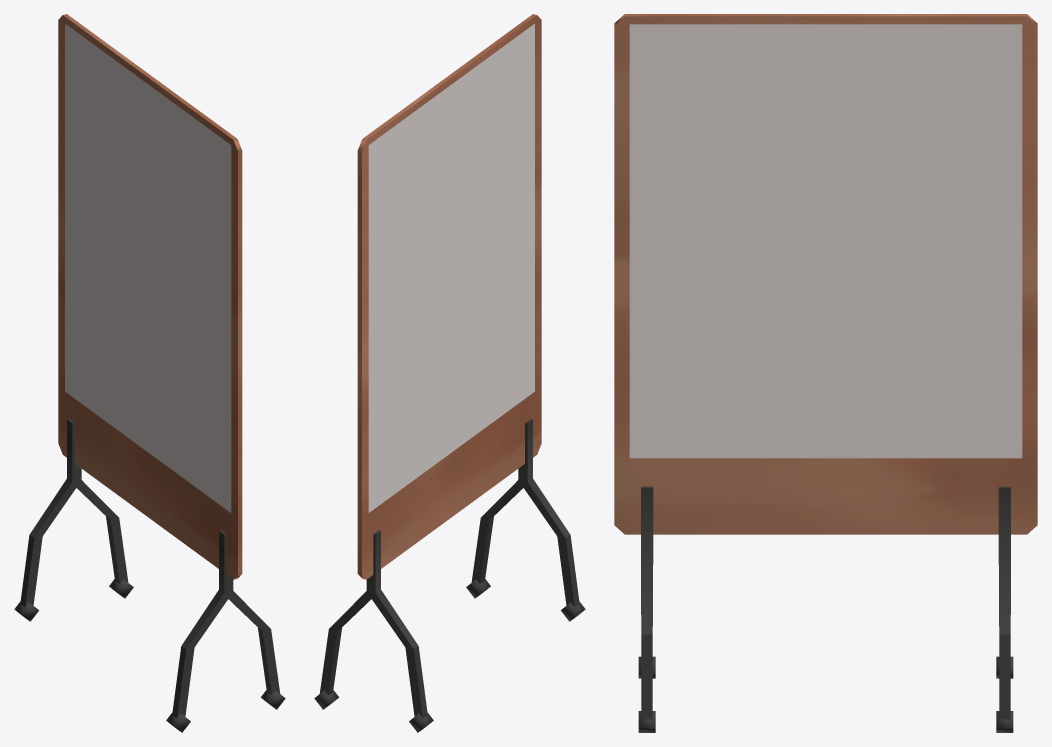
File: WhiteBoard.fbx
3 views of the same model, side by side, from view 1: azimuth 30°, elevation 25°; view 2: azimuth 150°, elevation 25°; view 3: azimuth 270°, elevation 25° (orthographic). The views are drawn at different scales.
Parts seen in each view (by area): view 1: WhiteBoard; view 2: WhiteBoard; view 3: WhiteBoard.
Boxes of the visible parts, x1=… form: WhiteBoard: x1=14, y1=14, x2=285, y2=732; WhiteBoard: x1=314, y1=14, x2=585, y2=732; WhiteBoard: x1=614, y1=14, x2=1037, y2=732.
Size of the model in its own units: 39.32 by 196 by 109.
